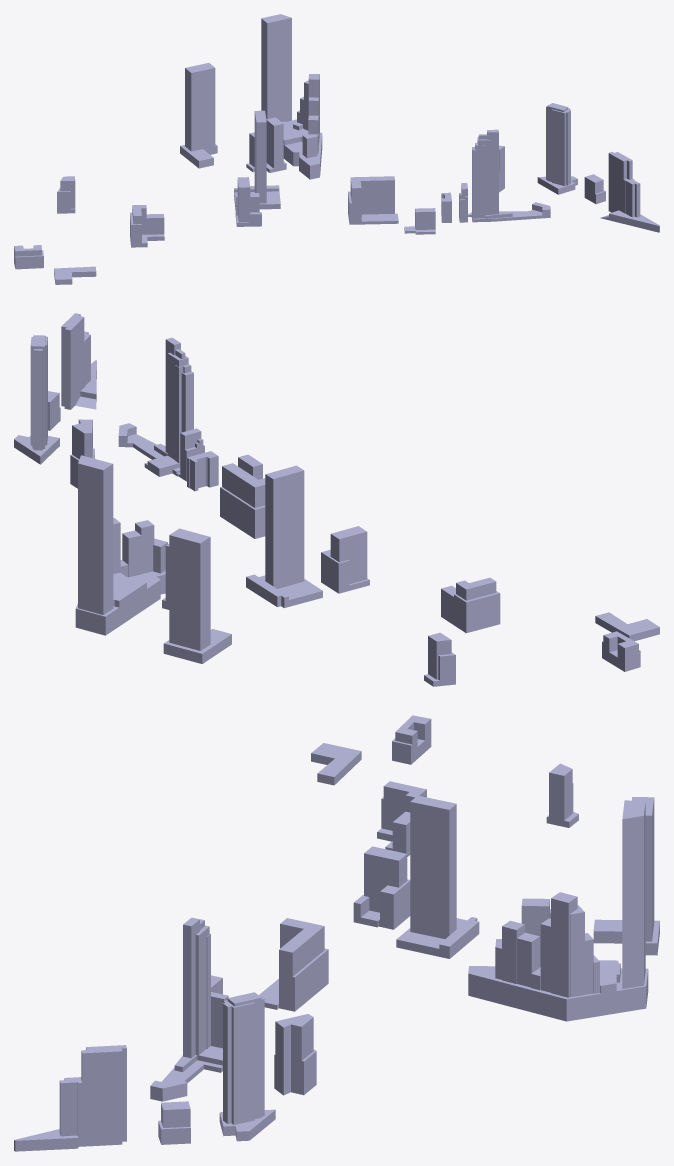
The model's file is BK_Recent.obj.
3 views of the same model, one above another, from view 1: azimuth 30°, elevation 25°; view 2: azimuth 150°, elevation 25°; view 3: azimuth 270°, elevation 25° (orthographic). The views are drawn at different scales.
Size of the model in its own units: 3650 by 800 by 2438.
